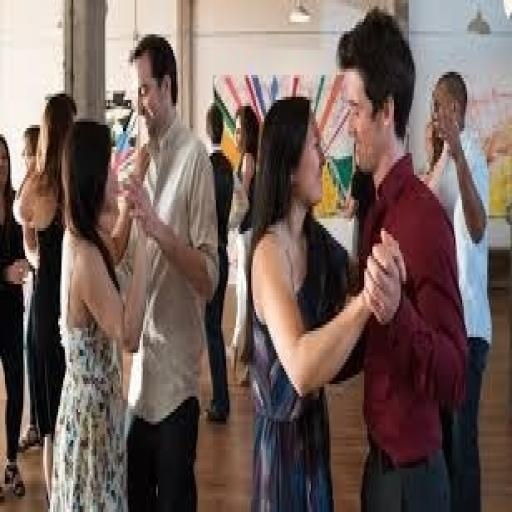dancing: (111, 31, 223, 509)
